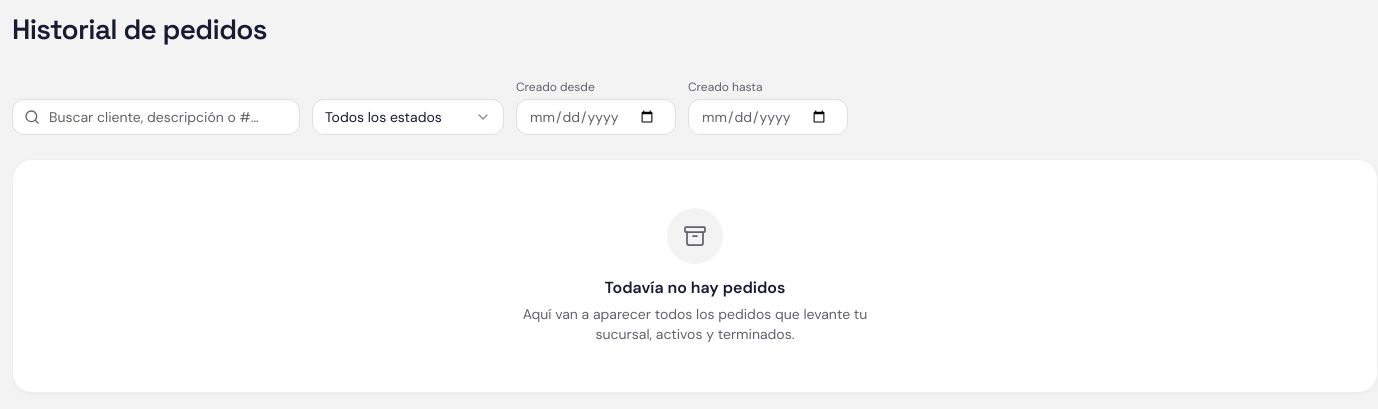
Scenario: Historial de la sucursal › sin pedidos ni filtros: estado vacío; con filtros: sin resultados y 'Limpiar filtros'
The image size is (1378, 409).
Expected: the text "Todavía no hay pedidos" is shown, left=605, top=277, right=786, bottom=298
Type "zzz" into the search field named "Buscar en el historial" at (156, 117), box left=12, top=99, right=300, bottom=135
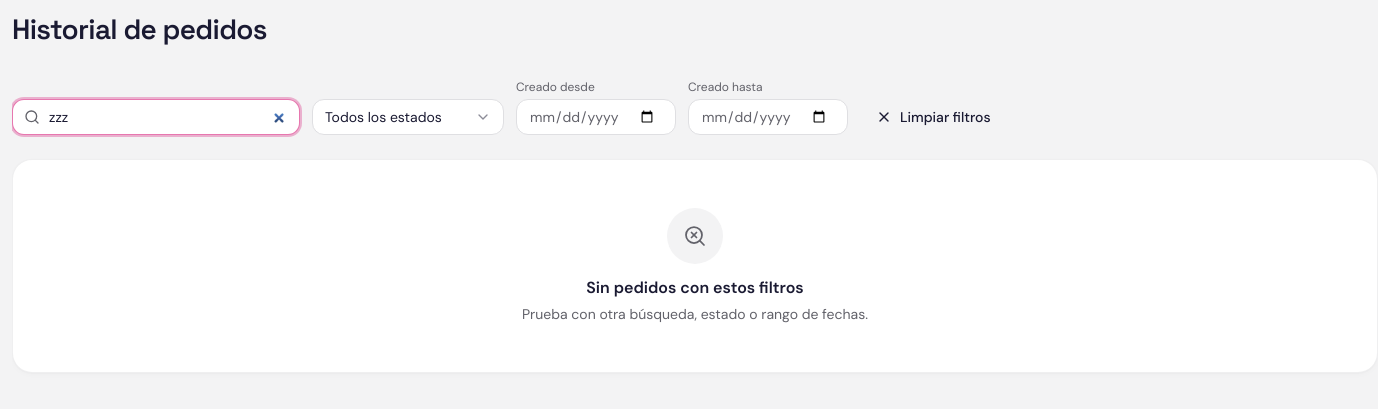
Now the text "Sin pedidos con estos filtros" is shown, box left=586, top=277, right=804, bottom=298
Click the button "Limpiar filtros" at (933, 117), box left=860, top=99, right=1007, bottom=135
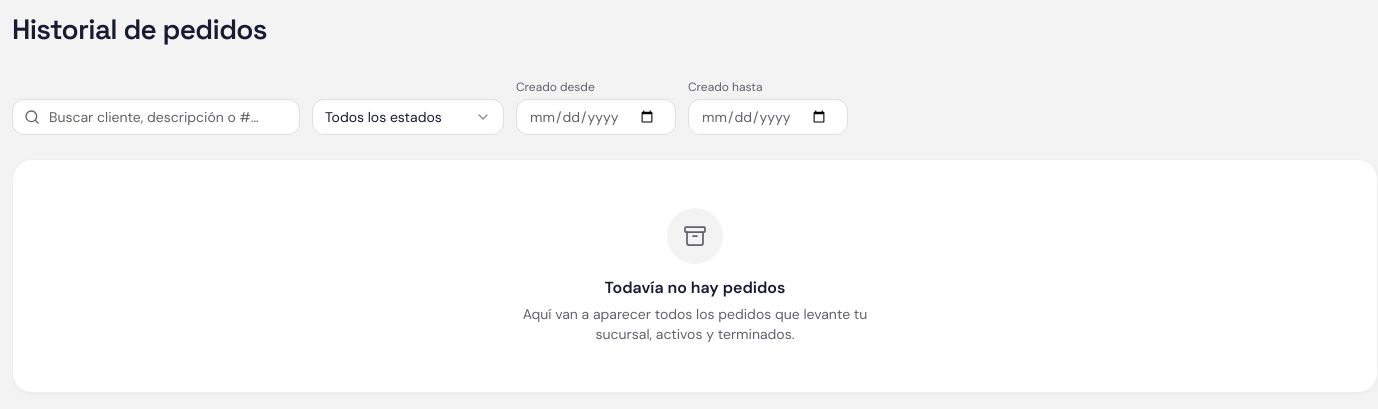
Now the text "Todavía no hay pedidos" is shown, box left=605, top=277, right=786, bottom=298
